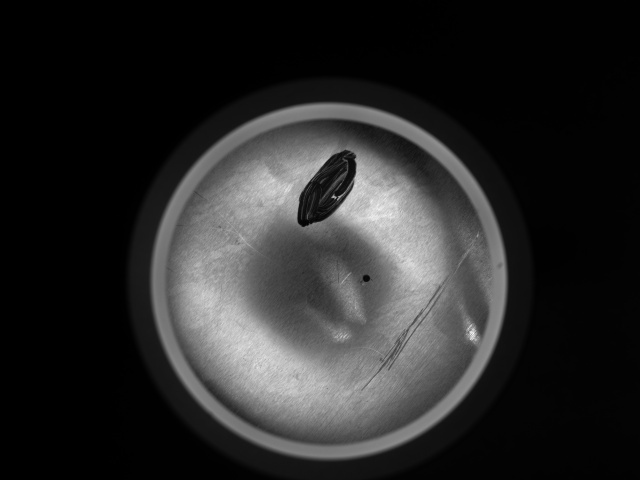ca_shang: (352, 226, 482, 401)
zang_wu: (293, 147, 359, 228)
zhen_kong: (356, 271, 375, 286)
